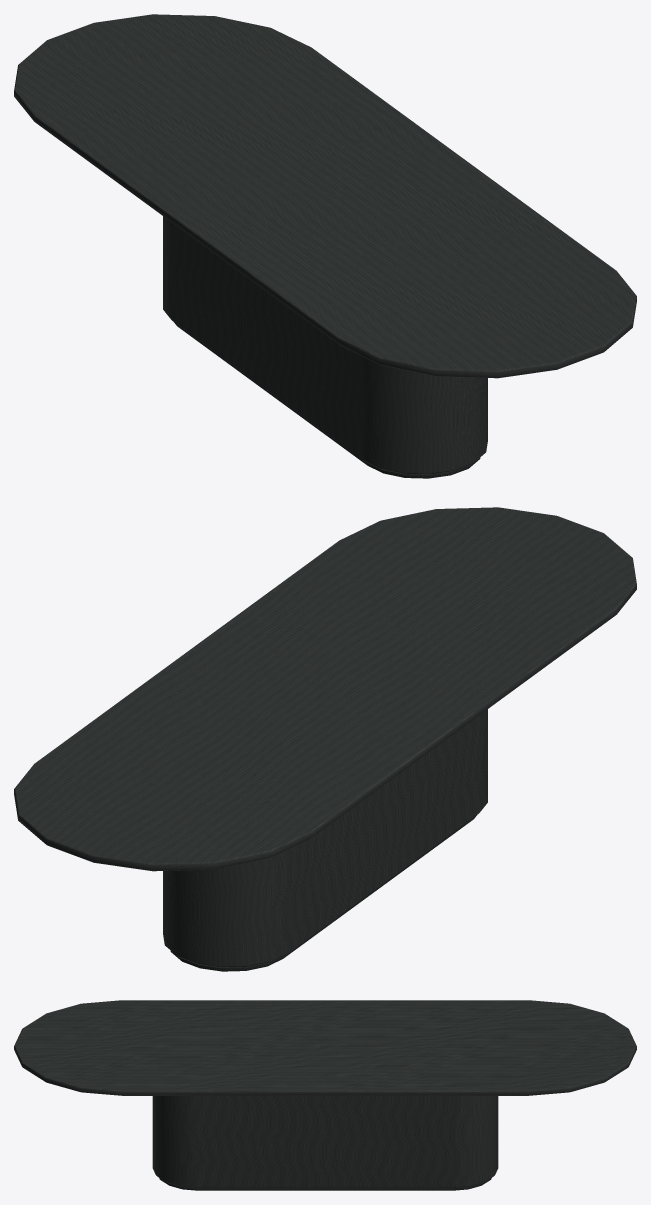
File: lod2_source.glb
The picture shows the model from 3 angles, top to bottom: view 1: azimuth 30°, elevation 25°; view 2: azimuth 150°, elevation 25°; view 3: azimuth 270°, elevation 25°; orthographic projection. The views are drawn at different scales.
Parts seen in each view (by area): view 1: Long charcoal capsule tabletop, Broad charcoal capsule pedestal, Pedestal recessed floor plinth; view 2: Long charcoal capsule tabletop, Broad charcoal capsule pedestal, Pedestal recessed floor plinth; view 3: Long charcoal capsule tabletop, Broad charcoal capsule pedestal, Pedestal recessed floor plinth.
Part boxes in pixels (x1,y1,x2,y2): Long charcoal capsule tabletop: (14,14,636,378); Broad charcoal capsule pedestal: (163,216,487,474); Pedestal recessed floor plinth: (174,322,480,478); Long charcoal capsule tabletop: (14,507,636,871); Broad charcoal capsule pedestal: (163,709,487,967); Pedestal recessed floor plinth: (170,815,476,971); Long charcoal capsule tabletop: (14,1000,636,1095); Broad charcoal capsule pedestal: (152,1096,498,1188); Pedestal recessed floor plinth: (159,1178,491,1190).
Bounding box in the file's own units: 1.16 × 0.761 × 3.35.
2 materials, 1 textured.
